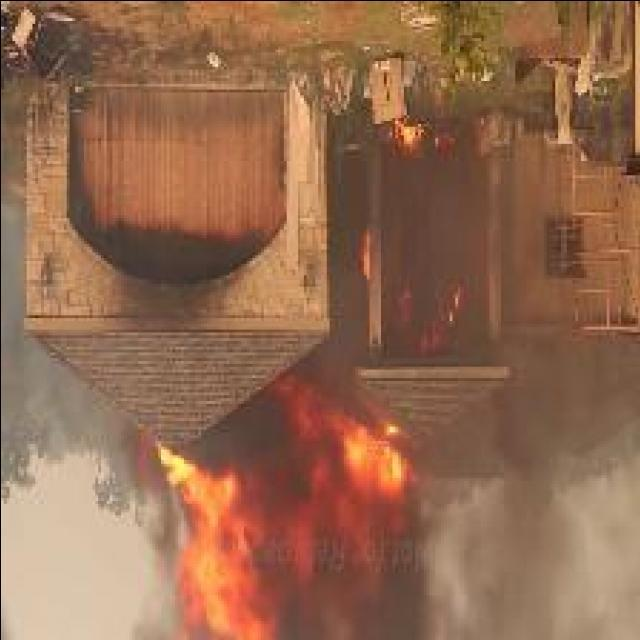Fire: (152, 374, 418, 640), (389, 116, 422, 156)
